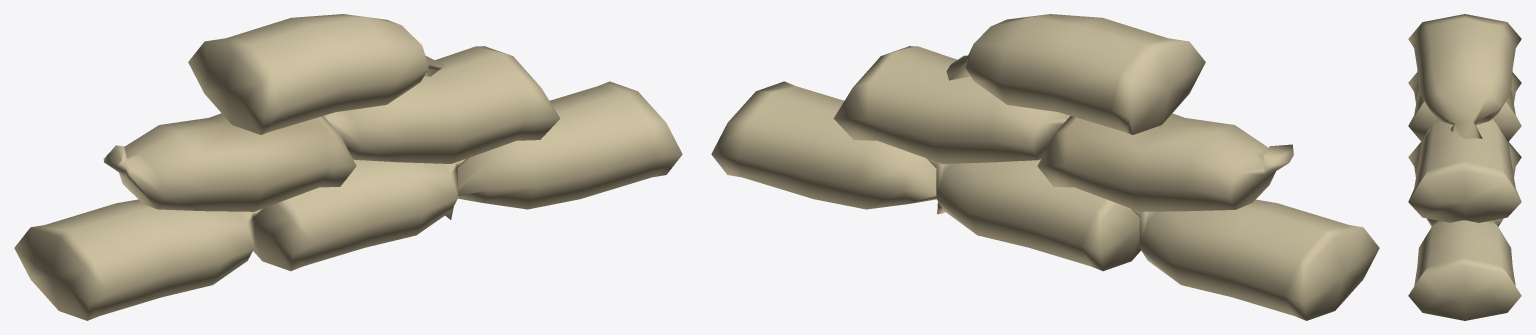
The model's file is SandBag_New_2.fbx.
3 renders of one model, left to right at view 1: azimuth 30°, elevation 25°; view 2: azimuth 150°, elevation 25°; view 3: azimuth 270°, elevation 25°, orthographic. The views are drawn at different scales.
Parts seen in each view (by area): view 1: SandBag_New_2; view 2: SandBag_New_2; view 3: SandBag_New_2.
Part boxes in pixels (x1=…): SandBag_New_2: x1=14, y1=14, x2=682, y2=320; SandBag_New_2: x1=711, y1=14, x2=1379, y2=320; SandBag_New_2: x1=1408, y1=14, x2=1521, y2=320.
Size of the model in its own units: 331 by 120 by 73.07.
